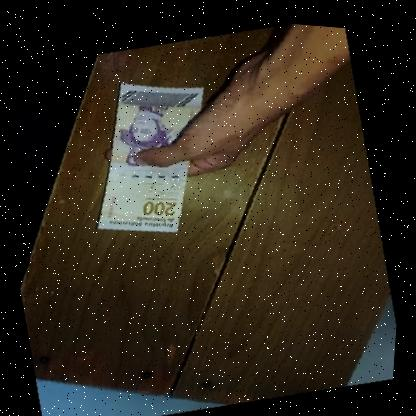two_hundred-front-vef: (85, 70, 220, 238)
